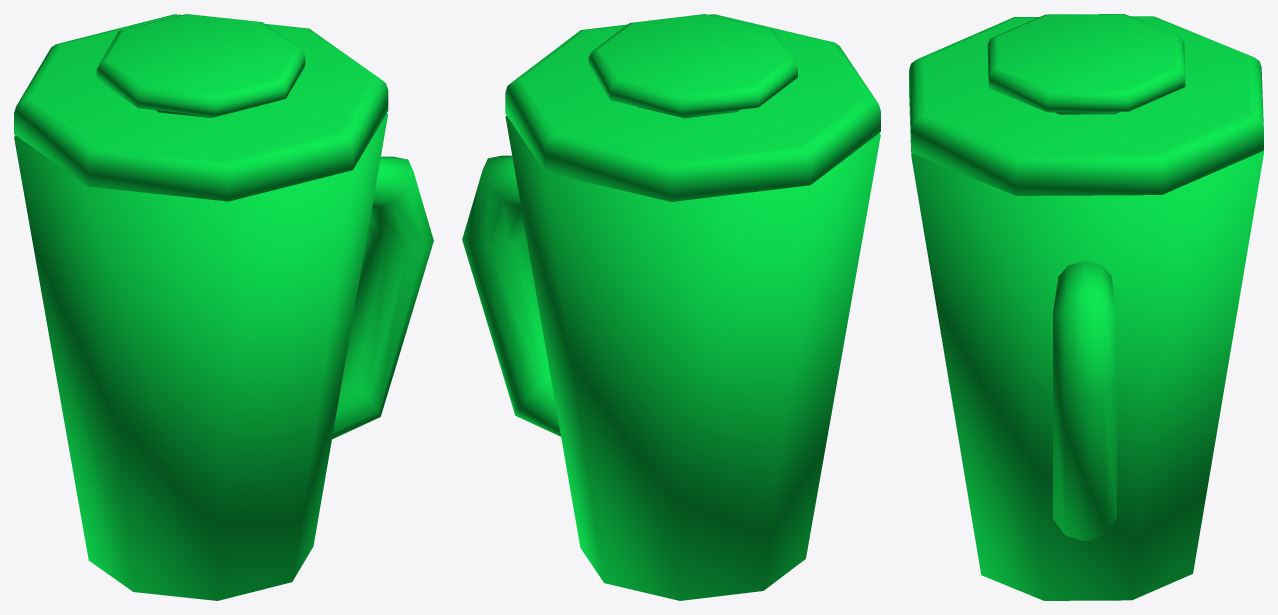
Rendered from copoliquidificador.fbx.
The picture shows the model from 3 angles, left to right: view 1: azimuth 30°, elevation 25°; view 2: azimuth 150°, elevation 25°; view 3: azimuth 270°, elevation 25°; orthographic projection.
Parts seen in each view (by area): view 1: CopoDoLiquidificador; view 2: CopoDoLiquidificador; view 3: CopoDoLiquidificador.
Boxes of the visible parts, x1,y1,x2,y2 form: CopoDoLiquidificador: (14,14,433,600); CopoDoLiquidificador: (462,14,880,600); CopoDoLiquidificador: (909,14,1263,600).
Bounding box in the file's own units: 64.95 × 81.57 × 52.06.
